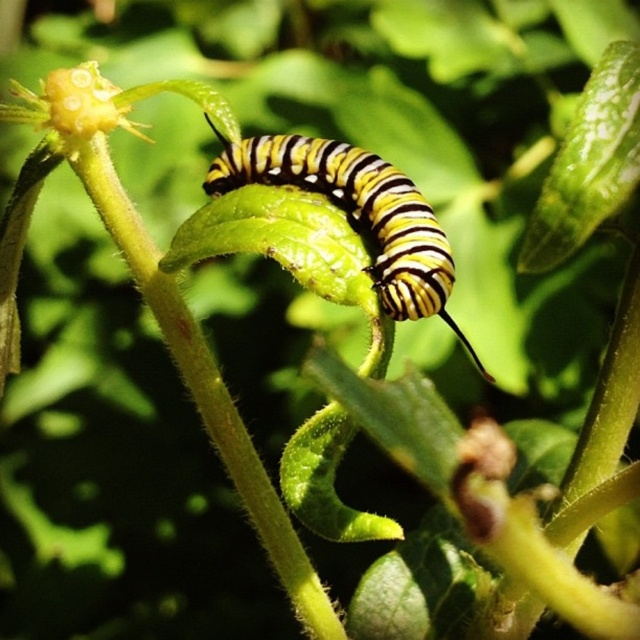Caterpillar: (205, 110, 493, 378)
